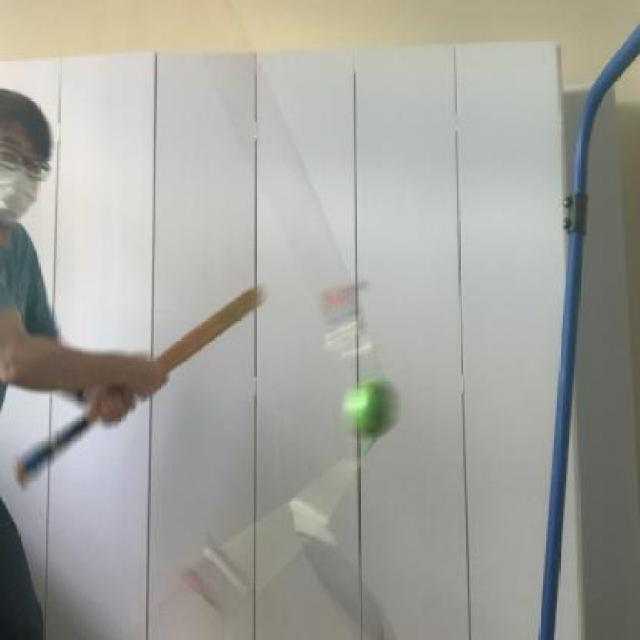baseball: (333, 364, 404, 451)
